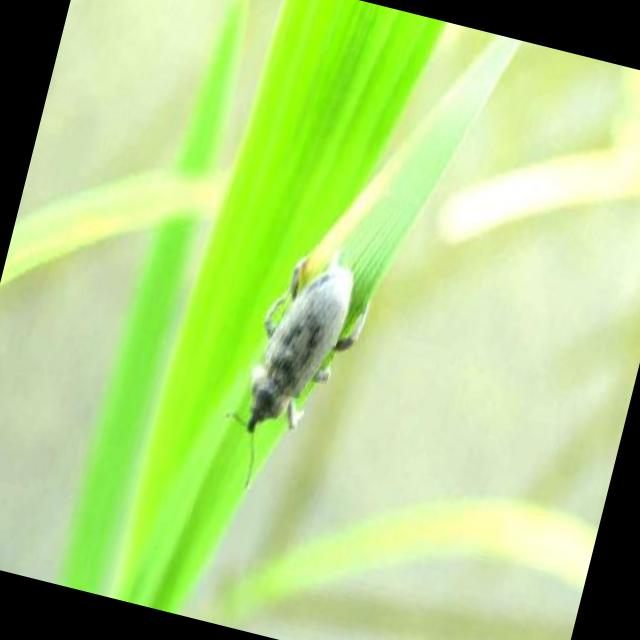rice-bug: (226, 224, 391, 449)
